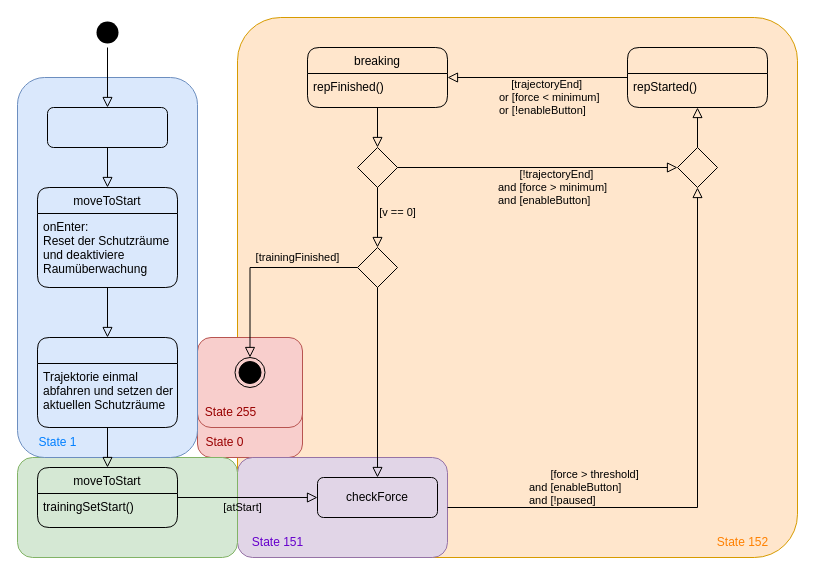
Image size: 815x575. Some labels were removed from this diagram. Each missing label, with the box of its shape:
accelerate: (626, 46, 768, 108)
Initialize: (46, 106, 168, 148)
initTrajectory: (36, 336, 178, 428)
State 150: (16, 456, 238, 558)
